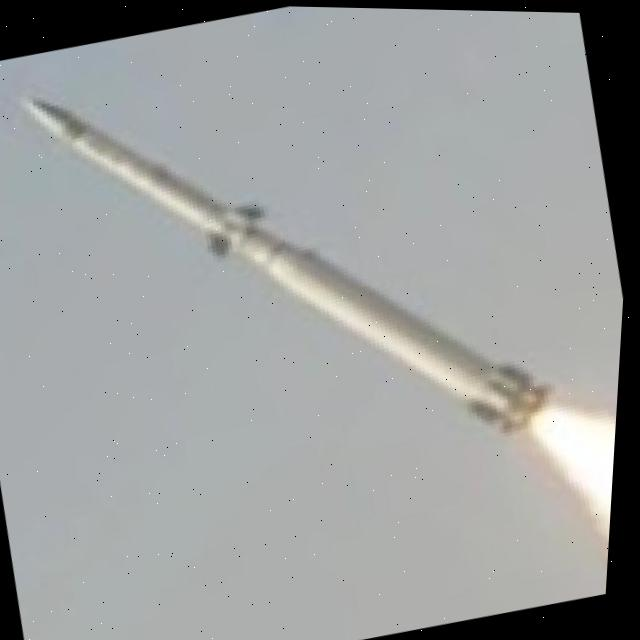missile: (0, 0, 588, 552)
